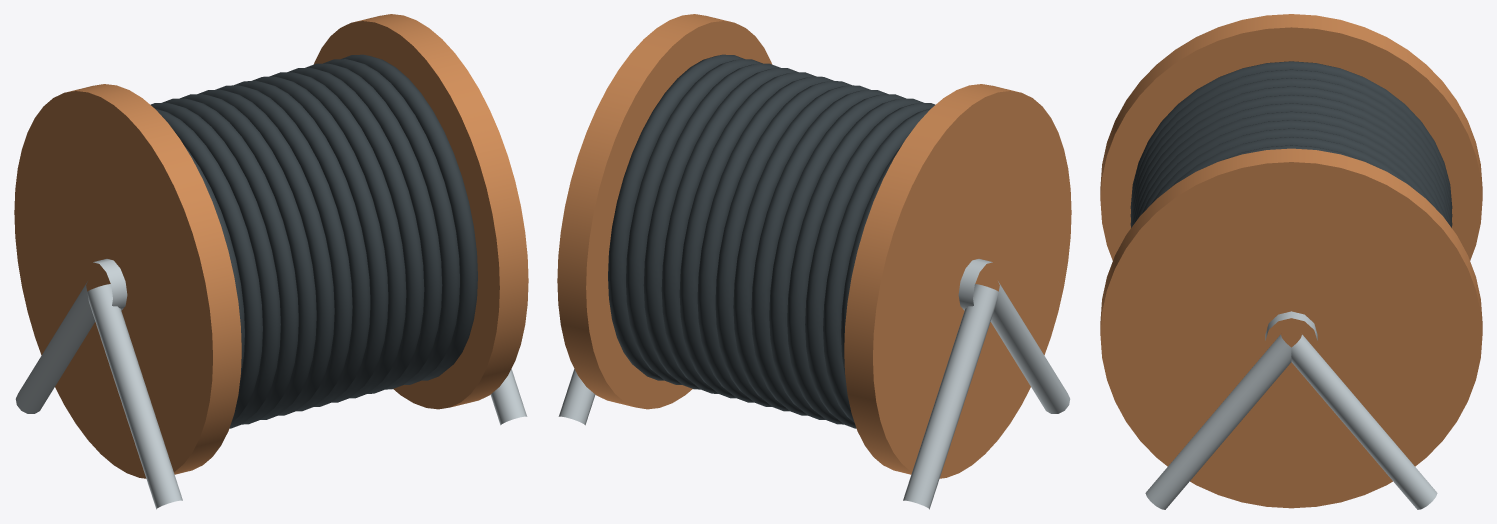
File: abandoned-weather-station-and-storm-shelter-cable-reel-80c1d8e9__31041.glb
3 views of the same model, side by side, from view 1: azimuth 30°, elevation 25°; view 2: azimuth 150°, elevation 25°; view 3: azimuth 270°, elevation 25° (orthographic). The views are drawn at different scales.
Visible parts, largest first — view 1: cable-reel; view 2: cable-reel; view 3: cable-reel.
Part boxes in pixels (box(x1,y1,x2,y2)): cable-reel: box(14, 14, 528, 509); cable-reel: box(557, 14, 1071, 509); cable-reel: box(1100, 14, 1482, 509).
Bounding box in the file's own units: 0.514 × 0.48 × 0.48.
